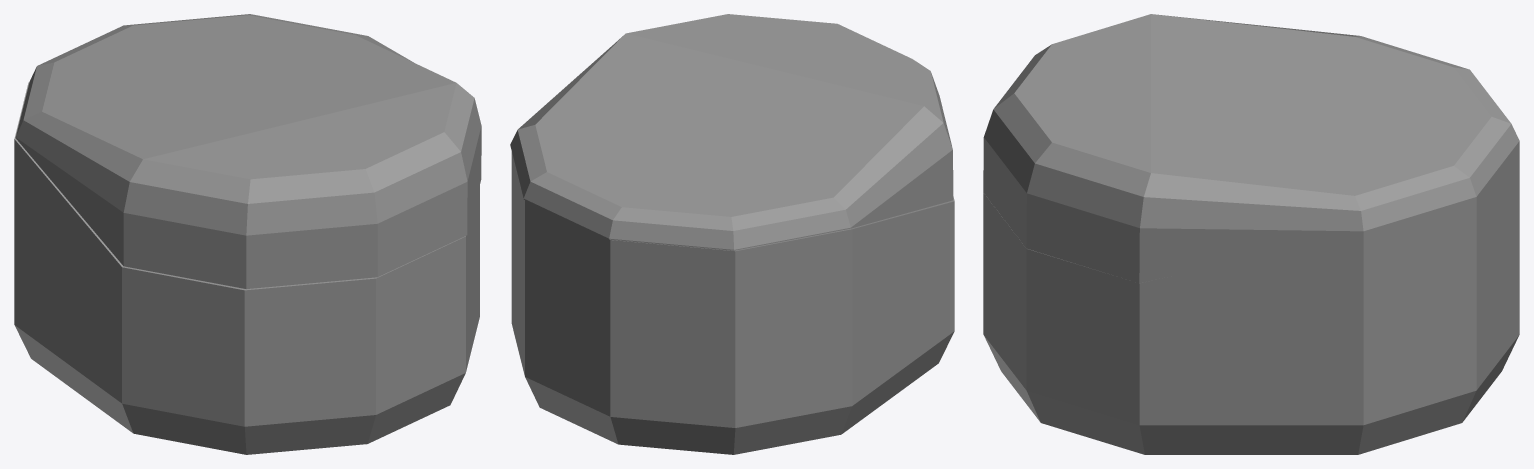
File: ricecooker.glb
The picture shows the model from 3 angles, left to right: view 1: azimuth 30°, elevation 25°; view 2: azimuth 150°, elevation 25°; view 3: azimuth 270°, elevation 25°; orthographic projection. The views are drawn at different scales.
Parts seen in each view (by area): view 1: Cylinder.001, Cylinder; view 2: Cylinder, Cylinder.001; view 3: Cylinder.001, Cylinder.
Boxes of the visible parts, bbox=[...] form: Cylinder.001: bbox=[15, 14, 481, 288]; Cylinder: bbox=[14, 82, 479, 454]; Cylinder: bbox=[511, 152, 954, 454]; Cylinder.001: bbox=[510, 14, 953, 250]; Cylinder.001: bbox=[983, 14, 1519, 283]; Cylinder: bbox=[983, 142, 1519, 454].
Bounding box in the file's own units: 1.91 × 1.44 × 2.37.
2 materials, 1 textured.
